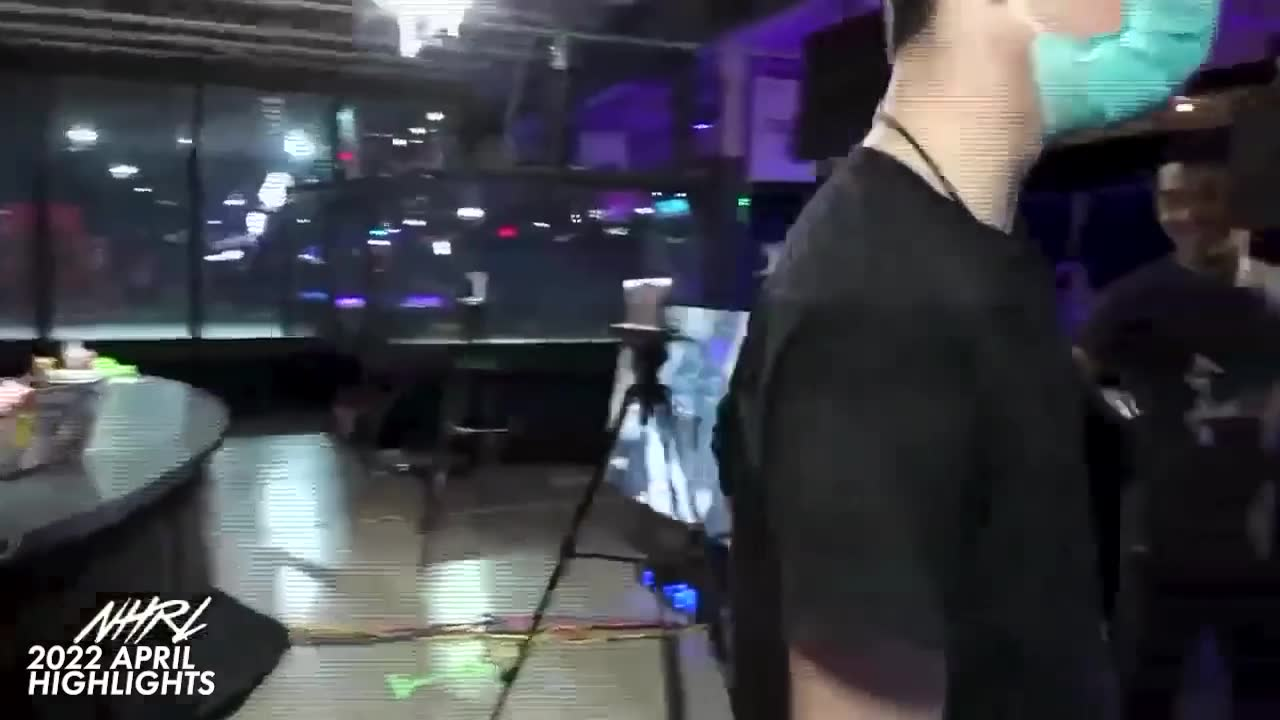combatbot: (0, 375, 86, 485), (7, 342, 142, 384)
